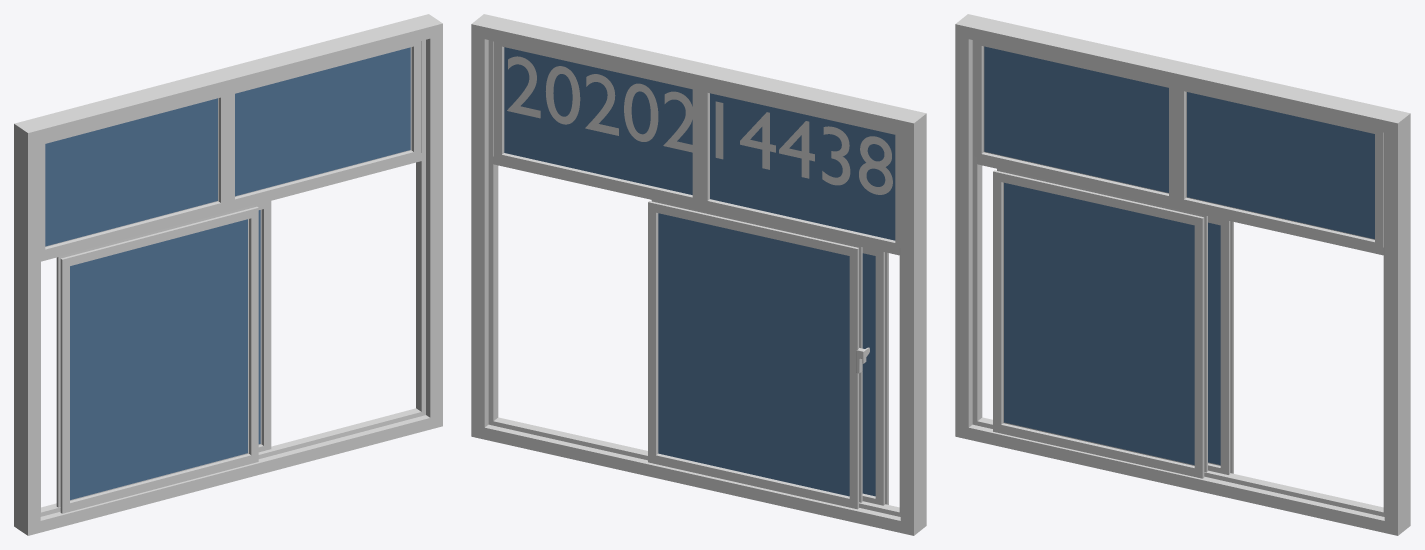
File: window.fbx
The picture shows the model from 3 angles, left to right: view 1: azimuth 30°, elevation 25°; view 2: azimuth 150°, elevation 25°; view 3: azimuth 330°, elevation 25°; orthographic projection. The views are drawn at different scales.
Visible parts, largest first — view 1: 立方体.001, 立方体.003, 立方体, 立方体.002; view 2: 立方体.002, 立方体, 立方体.003, 文本, 立方体.001; view 3: 立方体.001, 立方体.003, 立方体, 立方体.002.
Boxes of the visible parts, box(x1,y1,x2,y2) form: 立方体.001: box(56, 205, 258, 513); 立方体.003: box(40, 41, 421, 254); 立方体: box(14, 14, 442, 535); 立方体.002: box(254, 201, 271, 452); 立方体.002: box(648, 200, 862, 509); 立方体: box(471, 14, 926, 535); 立方体.003: box(494, 41, 900, 247); 文本: box(507, 56, 892, 194); 立方体.001: box(862, 247, 888, 505); 立方体.001: box(993, 169, 1207, 478); 立方体.003: box(973, 40, 1383, 247); 立方体: box(955, 14, 1410, 535); 立方体.002: box(1208, 216, 1233, 474).
Bounding box in the file's own units: 550 × 499 × 49.16.
